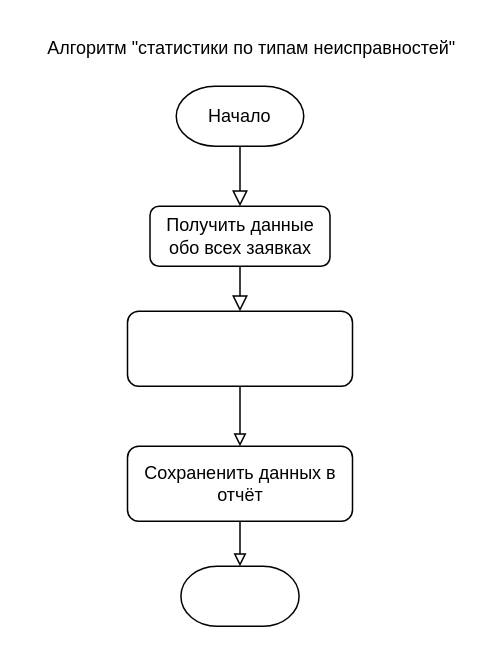
The diagram is 501 pixels wide and 653 high, and some of its shapes have lost their labels. Each missing label, with the centre of its shape:
Конец: [239,595]
Отсортировать данные по типам неисправностей: [239,348]
